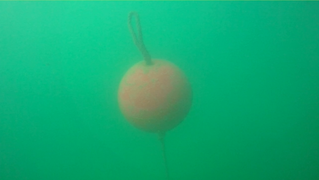buoy: (116, 59, 193, 134)
